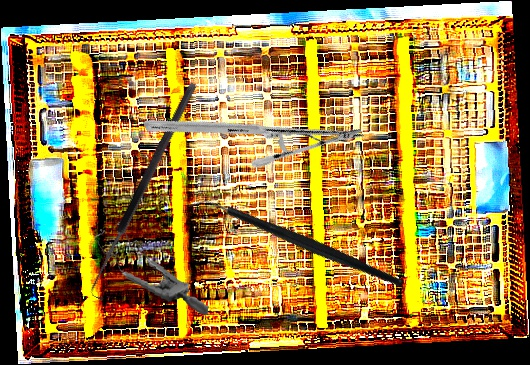Chopper: (185, 136, 406, 352)
Hook Surgical: (85, 81, 208, 302)
Needle Holder: (142, 35, 365, 224)
Speculum: (86, 213, 220, 316)
